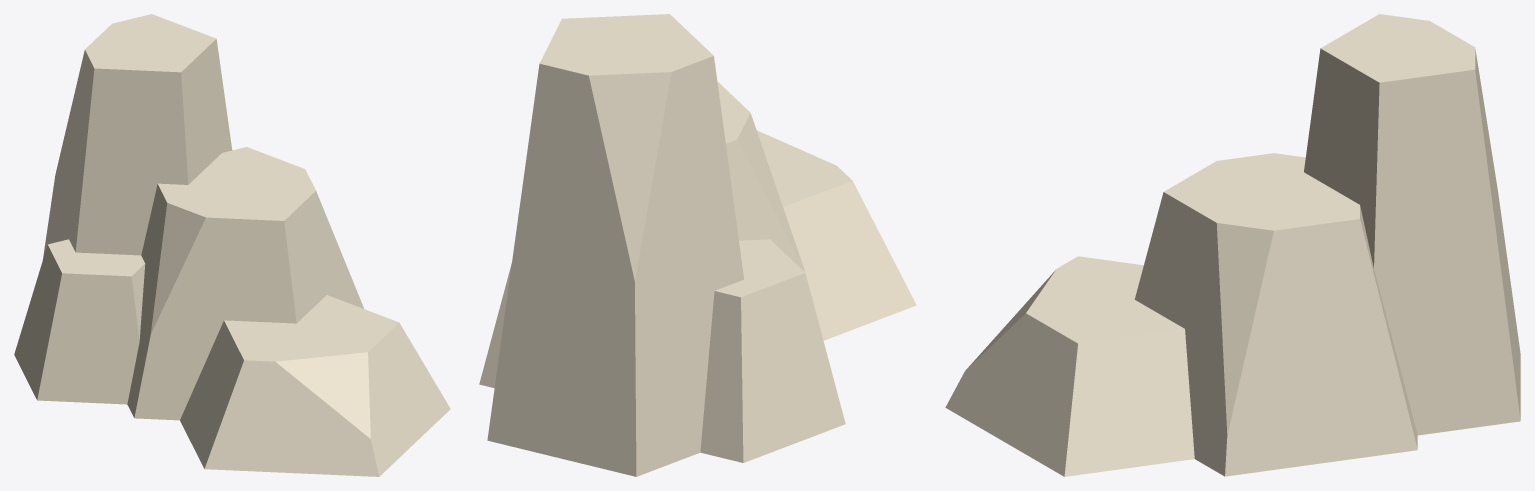
The model's file is rockC2.glb.
The picture shows the model from 3 angles, left to right: view 1: azimuth 30°, elevation 25°; view 2: azimuth 150°, elevation 25°; view 3: azimuth 270°, elevation 25°; orthographic projection. The views are drawn at different scales.
Visible parts, largest first — view 1: rockC2.001; view 2: rockC2.001; view 3: rockC2.001.
Boxes of the visible parts, box(x1,y1,x2,y2) form: rockC2.001: box(14, 14, 450, 476); rockC2.001: box(479, 14, 916, 476); rockC2.001: box(945, 14, 1520, 476).
Bounding box in the file's own units: 2.19 × 2.04 × 3.13.
